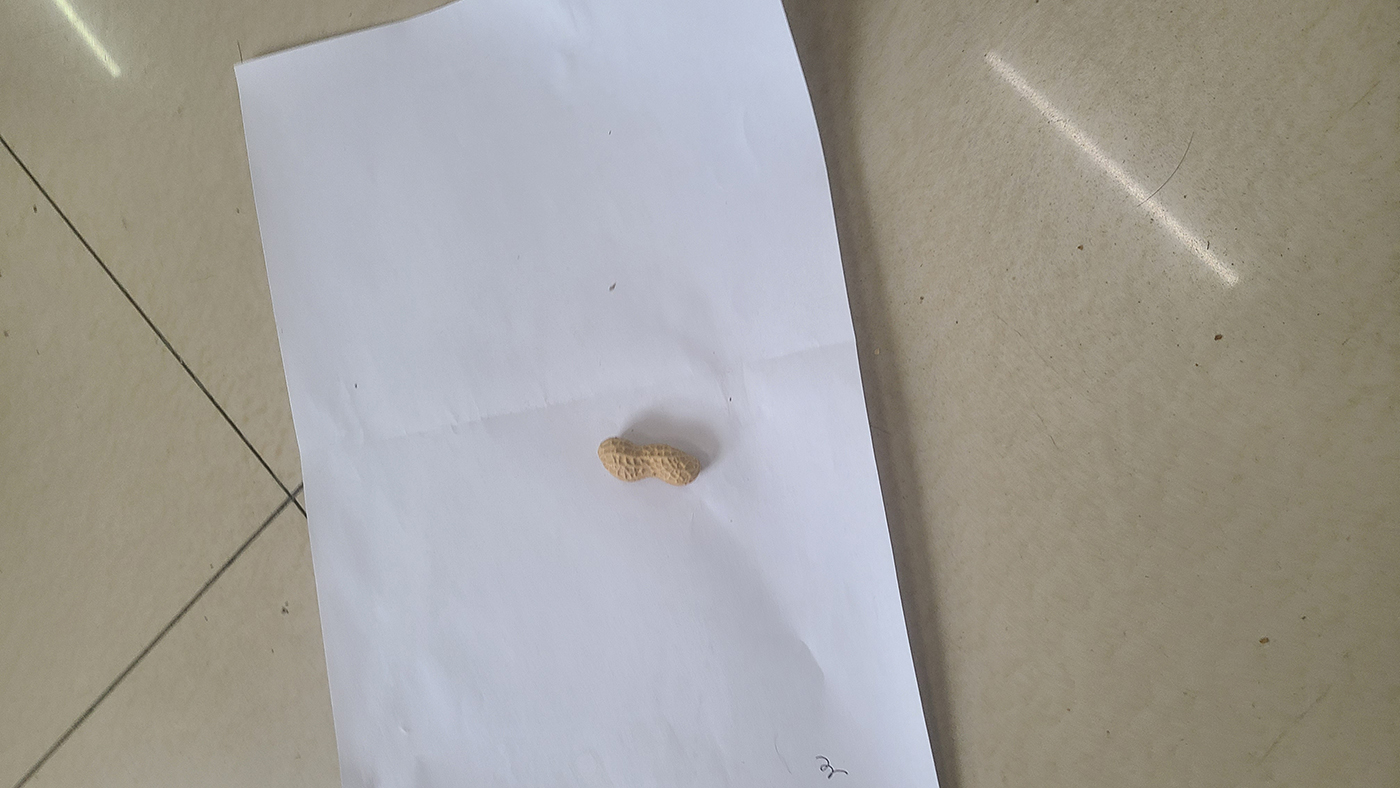h: (598, 437, 700, 487)
